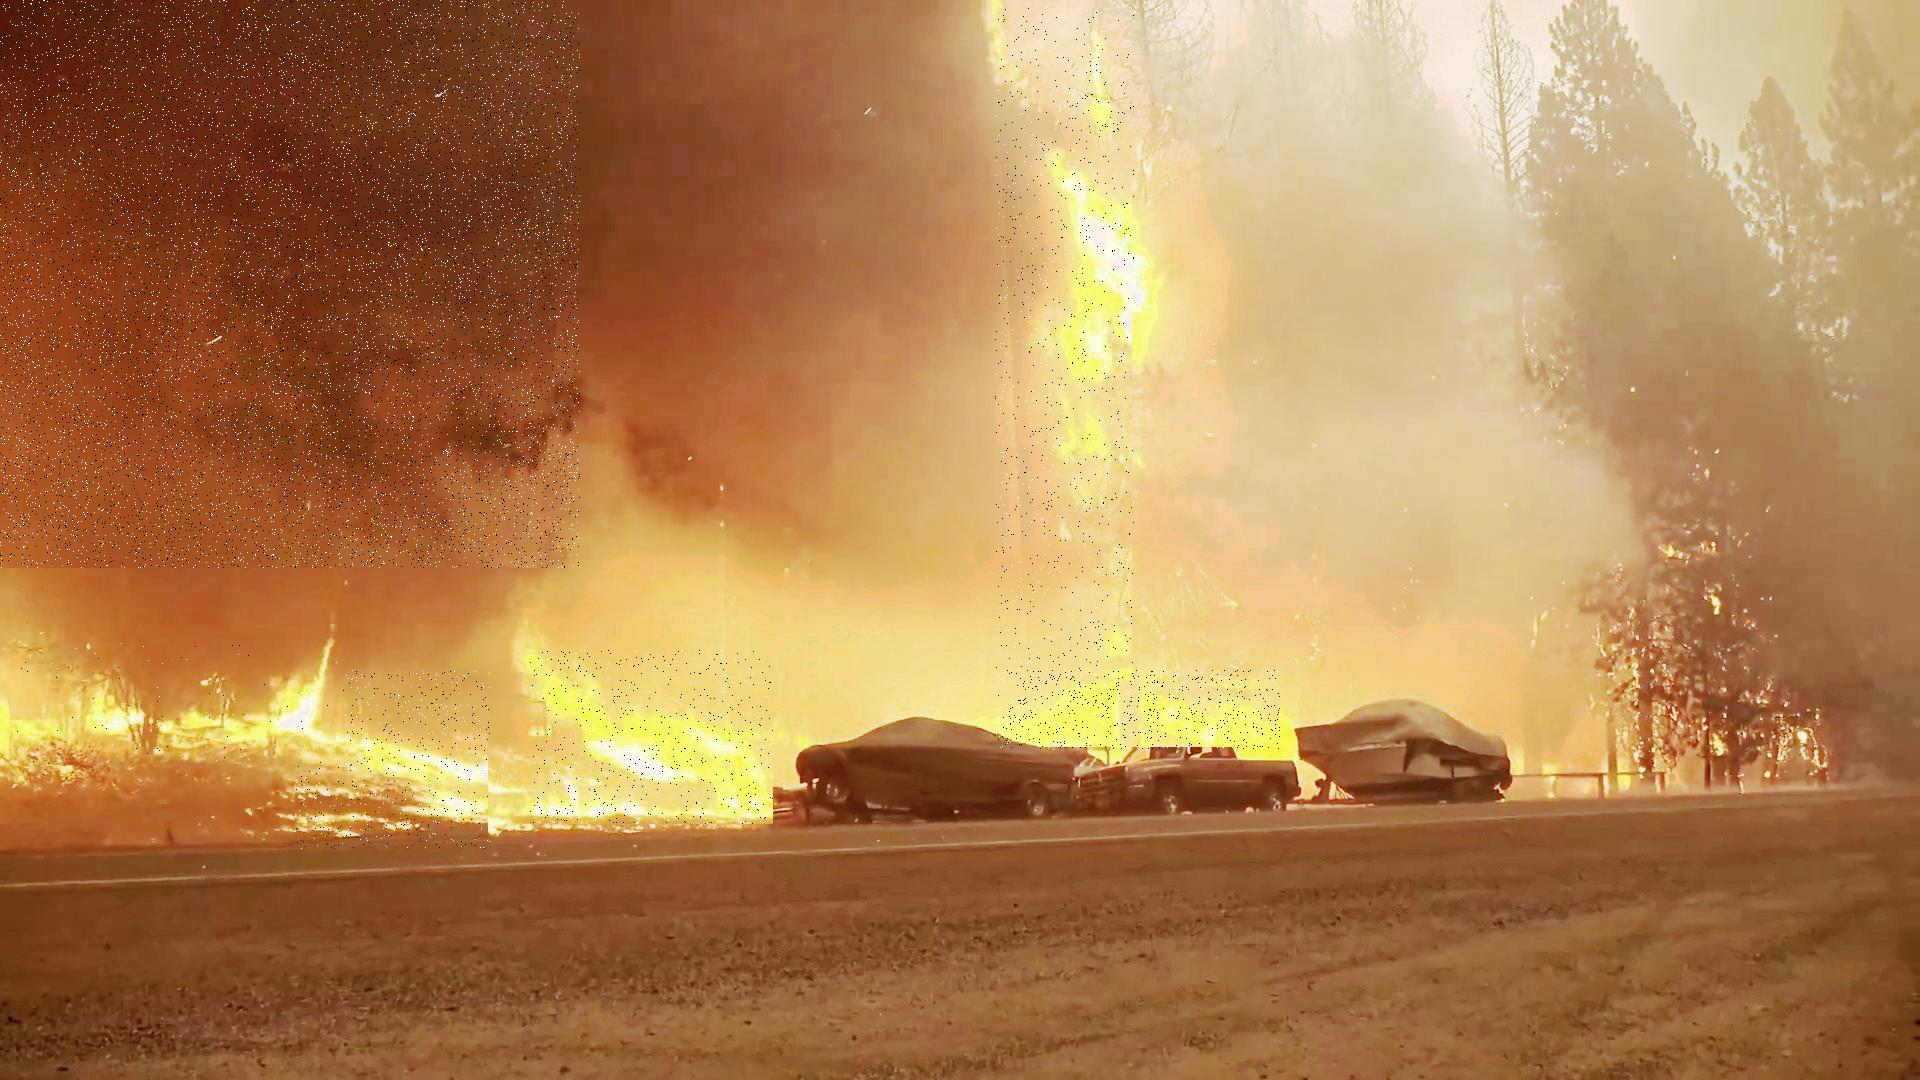fire: (996, 8, 1135, 724), (530, 650, 773, 824), (9, 644, 345, 766), (295, 671, 491, 851), (997, 671, 1280, 750)
smoke: (0, 0, 580, 568)
